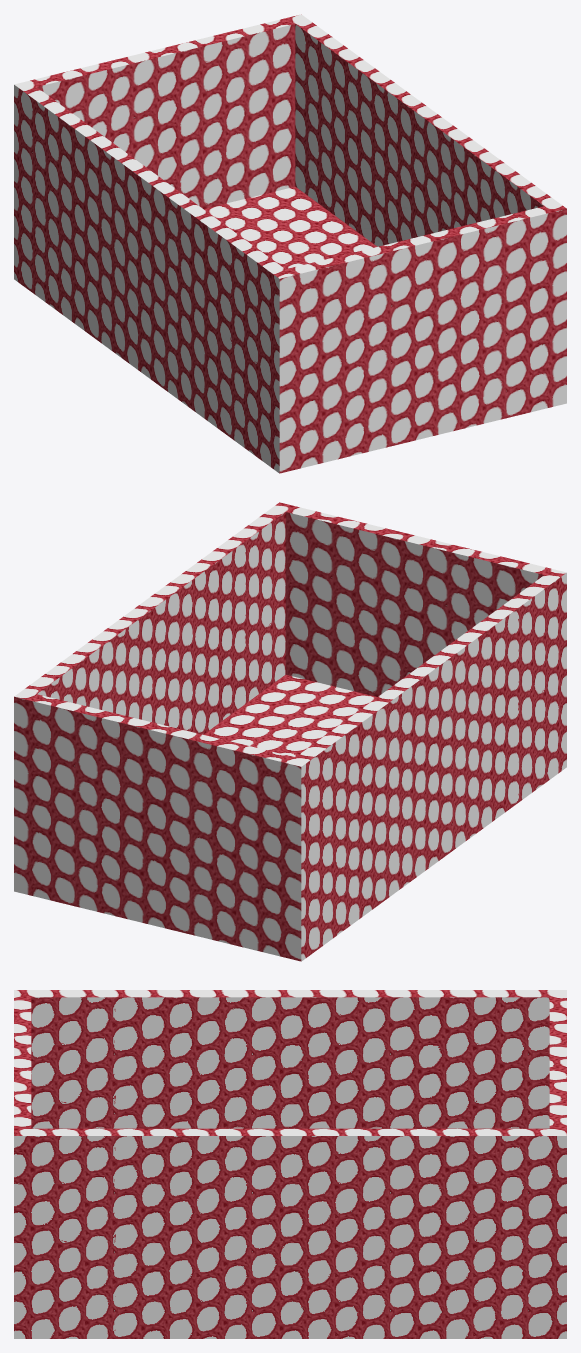
File: MeshCreateMesh.fbx
3 renders of one model, top to bottom at view 1: azimuth 30°, elevation 25°; view 2: azimuth 150°, elevation 25°; view 3: azimuth 270°, elevation 25°, orthographic. The views are drawn at different scales.
Visible parts, largest first — view 1: Cube; view 2: Cube; view 3: Cube.
Boxes of the visible parts, x1,y1,x2,y2 form: Cube: (14, 14, 566, 473); Cube: (14, 502, 566, 961); Cube: (14, 990, 566, 1338).
Bounding box in the file's own units: 375 × 243 × 600.
